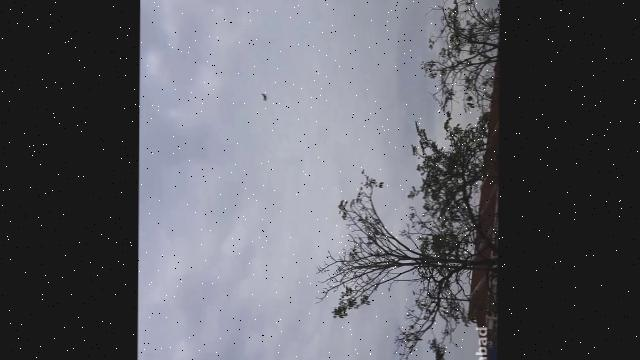drone: (259, 90, 269, 102)
